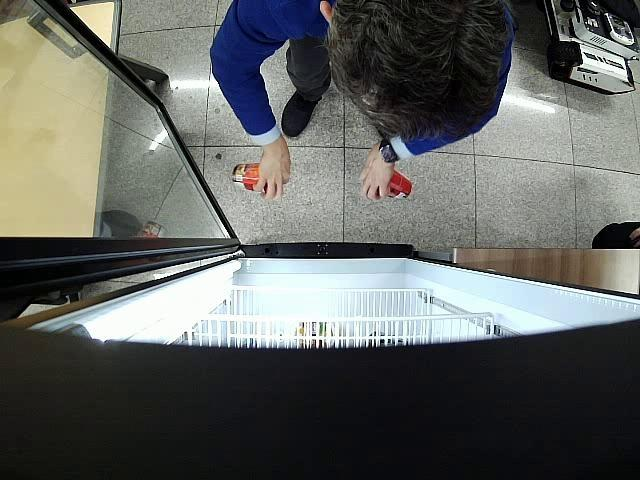02_shinRamen_S: (366, 168, 412, 202), (232, 164, 284, 194)
